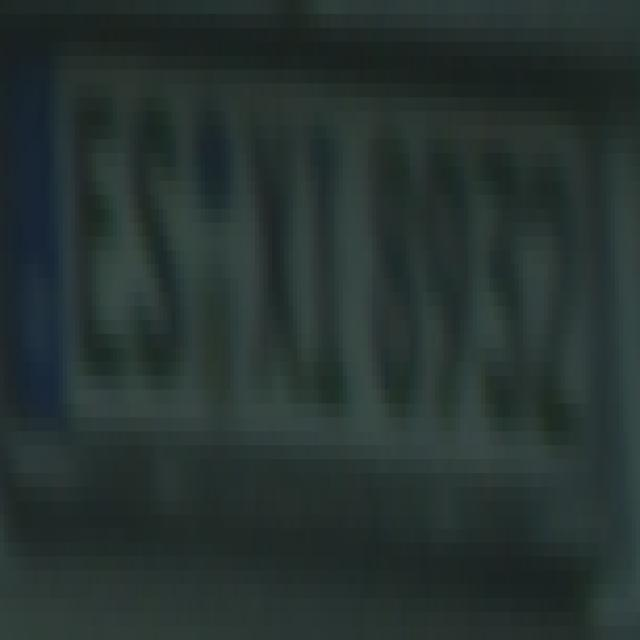Autre: (7, 46, 612, 517)
